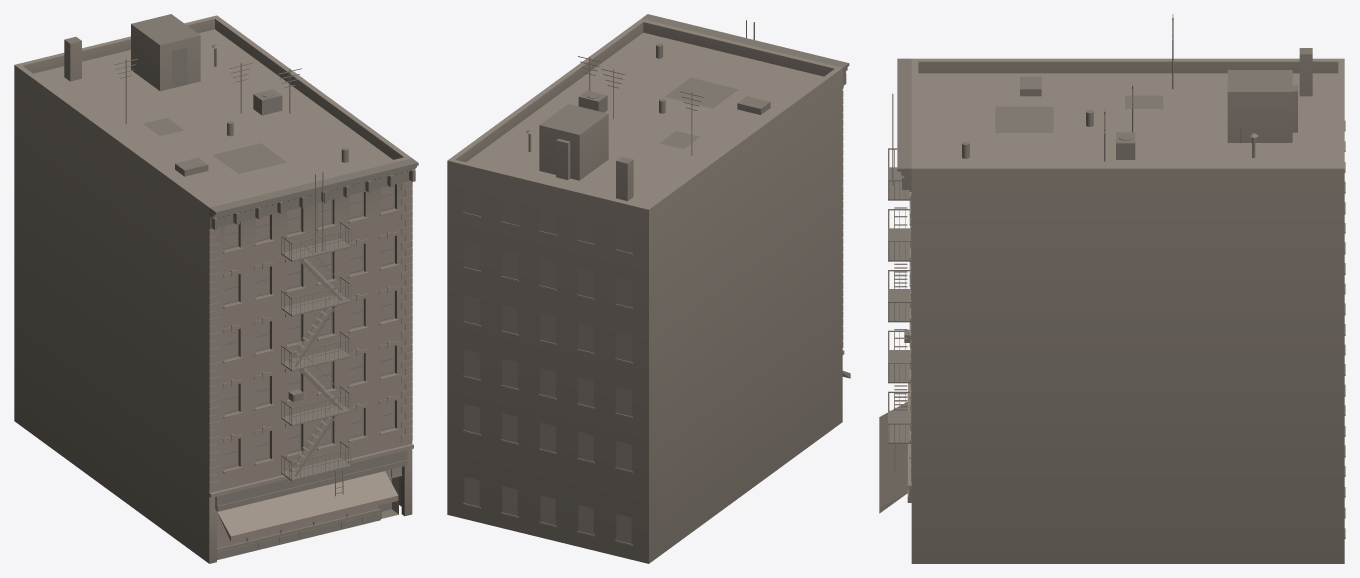
The model's file is corner_left_a.glb.
3 views of the same model, side by side, from view 1: azimuth 30°, elevation 25°; view 2: azimuth 150°, elevation 25°; view 3: azimuth 270°, elevation 25° (orthographic). The views are drawn at different scales.
Parts seen in each view (by area): view 1: corner_left_a; view 2: corner_left_a; view 3: corner_left_a.
Part boxes in pixels (box(x1,y1,x2,y2)): corner_left_a: box(14, 14, 418, 563); corner_left_a: box(447, 14, 850, 563); corner_left_a: box(879, 14, 1345, 563).
Size of the model in its own units: 12 by 23.17 by 21.55.
